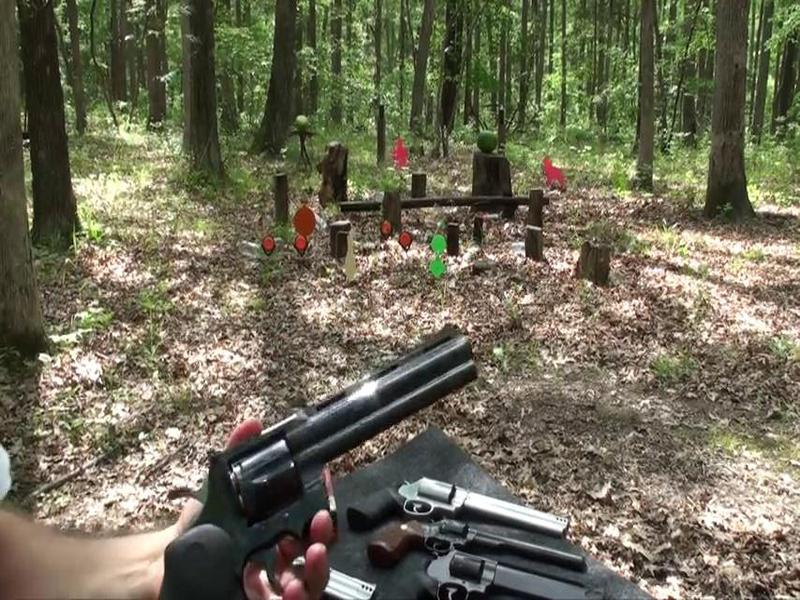Revolver: (139, 317, 478, 600)
